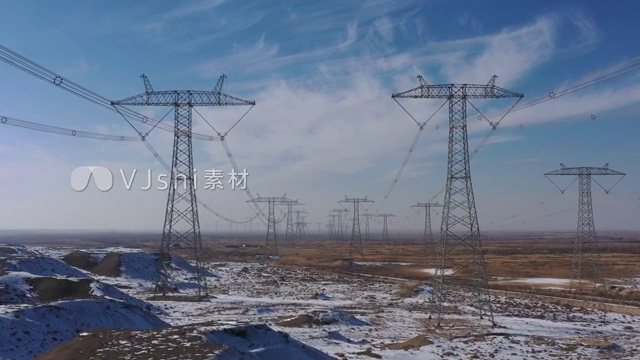tower_body: (380, 71, 542, 334), (105, 70, 263, 302), (540, 155, 634, 308), (240, 189, 306, 267)
tower_foot: (425, 268, 499, 329), (153, 255, 212, 300), (262, 243, 281, 264)
tower_head: (107, 73, 262, 109), (386, 75, 535, 102), (543, 160, 629, 180), (243, 192, 301, 204)
